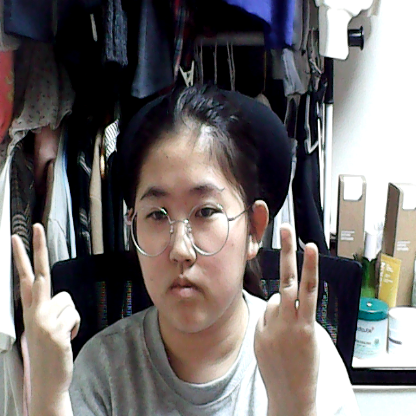Finger_2: (1, 209, 96, 400), (244, 220, 335, 404)
